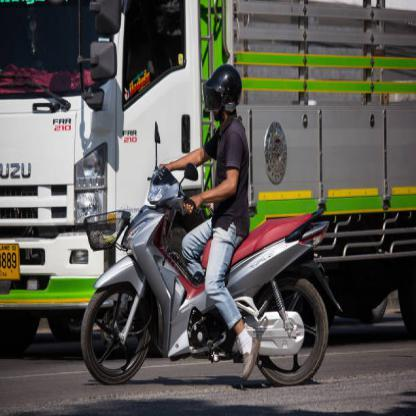Motorcycle: (72, 143, 346, 396)
